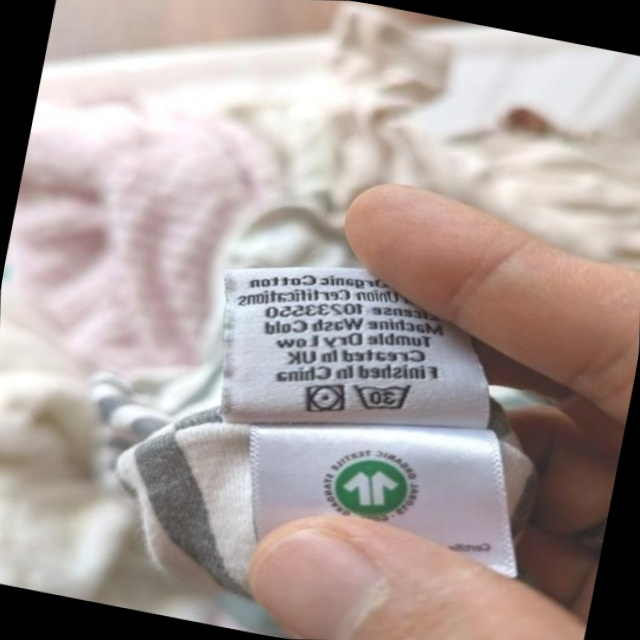30C: (345, 368, 422, 425)
tumble_dry_low: (297, 374, 353, 424)
